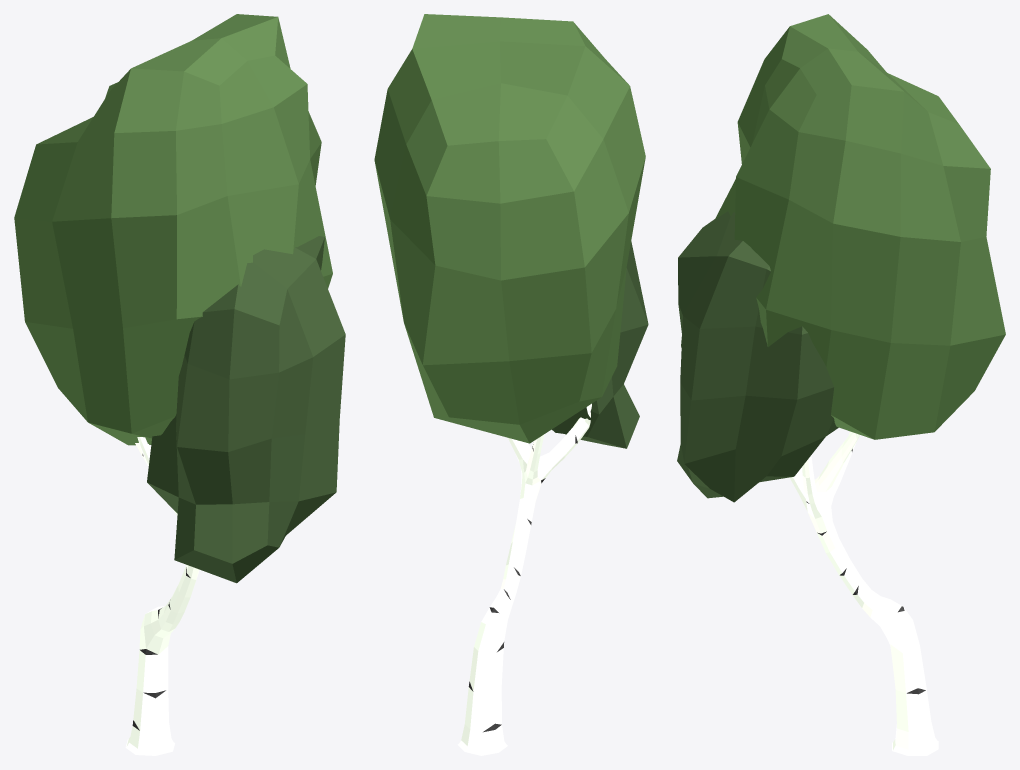
The model's file is BirchTree_2.glb.
3 renders of one model, left to right at view 1: azimuth 30°, elevation 25°; view 2: azimuth 150°, elevation 25°; view 3: azimuth 270°, elevation 25°, orthographic. The views are drawn at different scales.
Parts seen in each view (by area): view 1: BirchTree_2; view 2: BirchTree_2; view 3: BirchTree_2.
Part boxes in pixels (bbox=[...]): BirchTree_2: bbox=[14, 14, 345, 755]; BirchTree_2: bbox=[374, 14, 648, 755]; BirchTree_2: bbox=[677, 14, 1005, 755].
Bounding box in the file's own units: 147 × 403 × 169.
